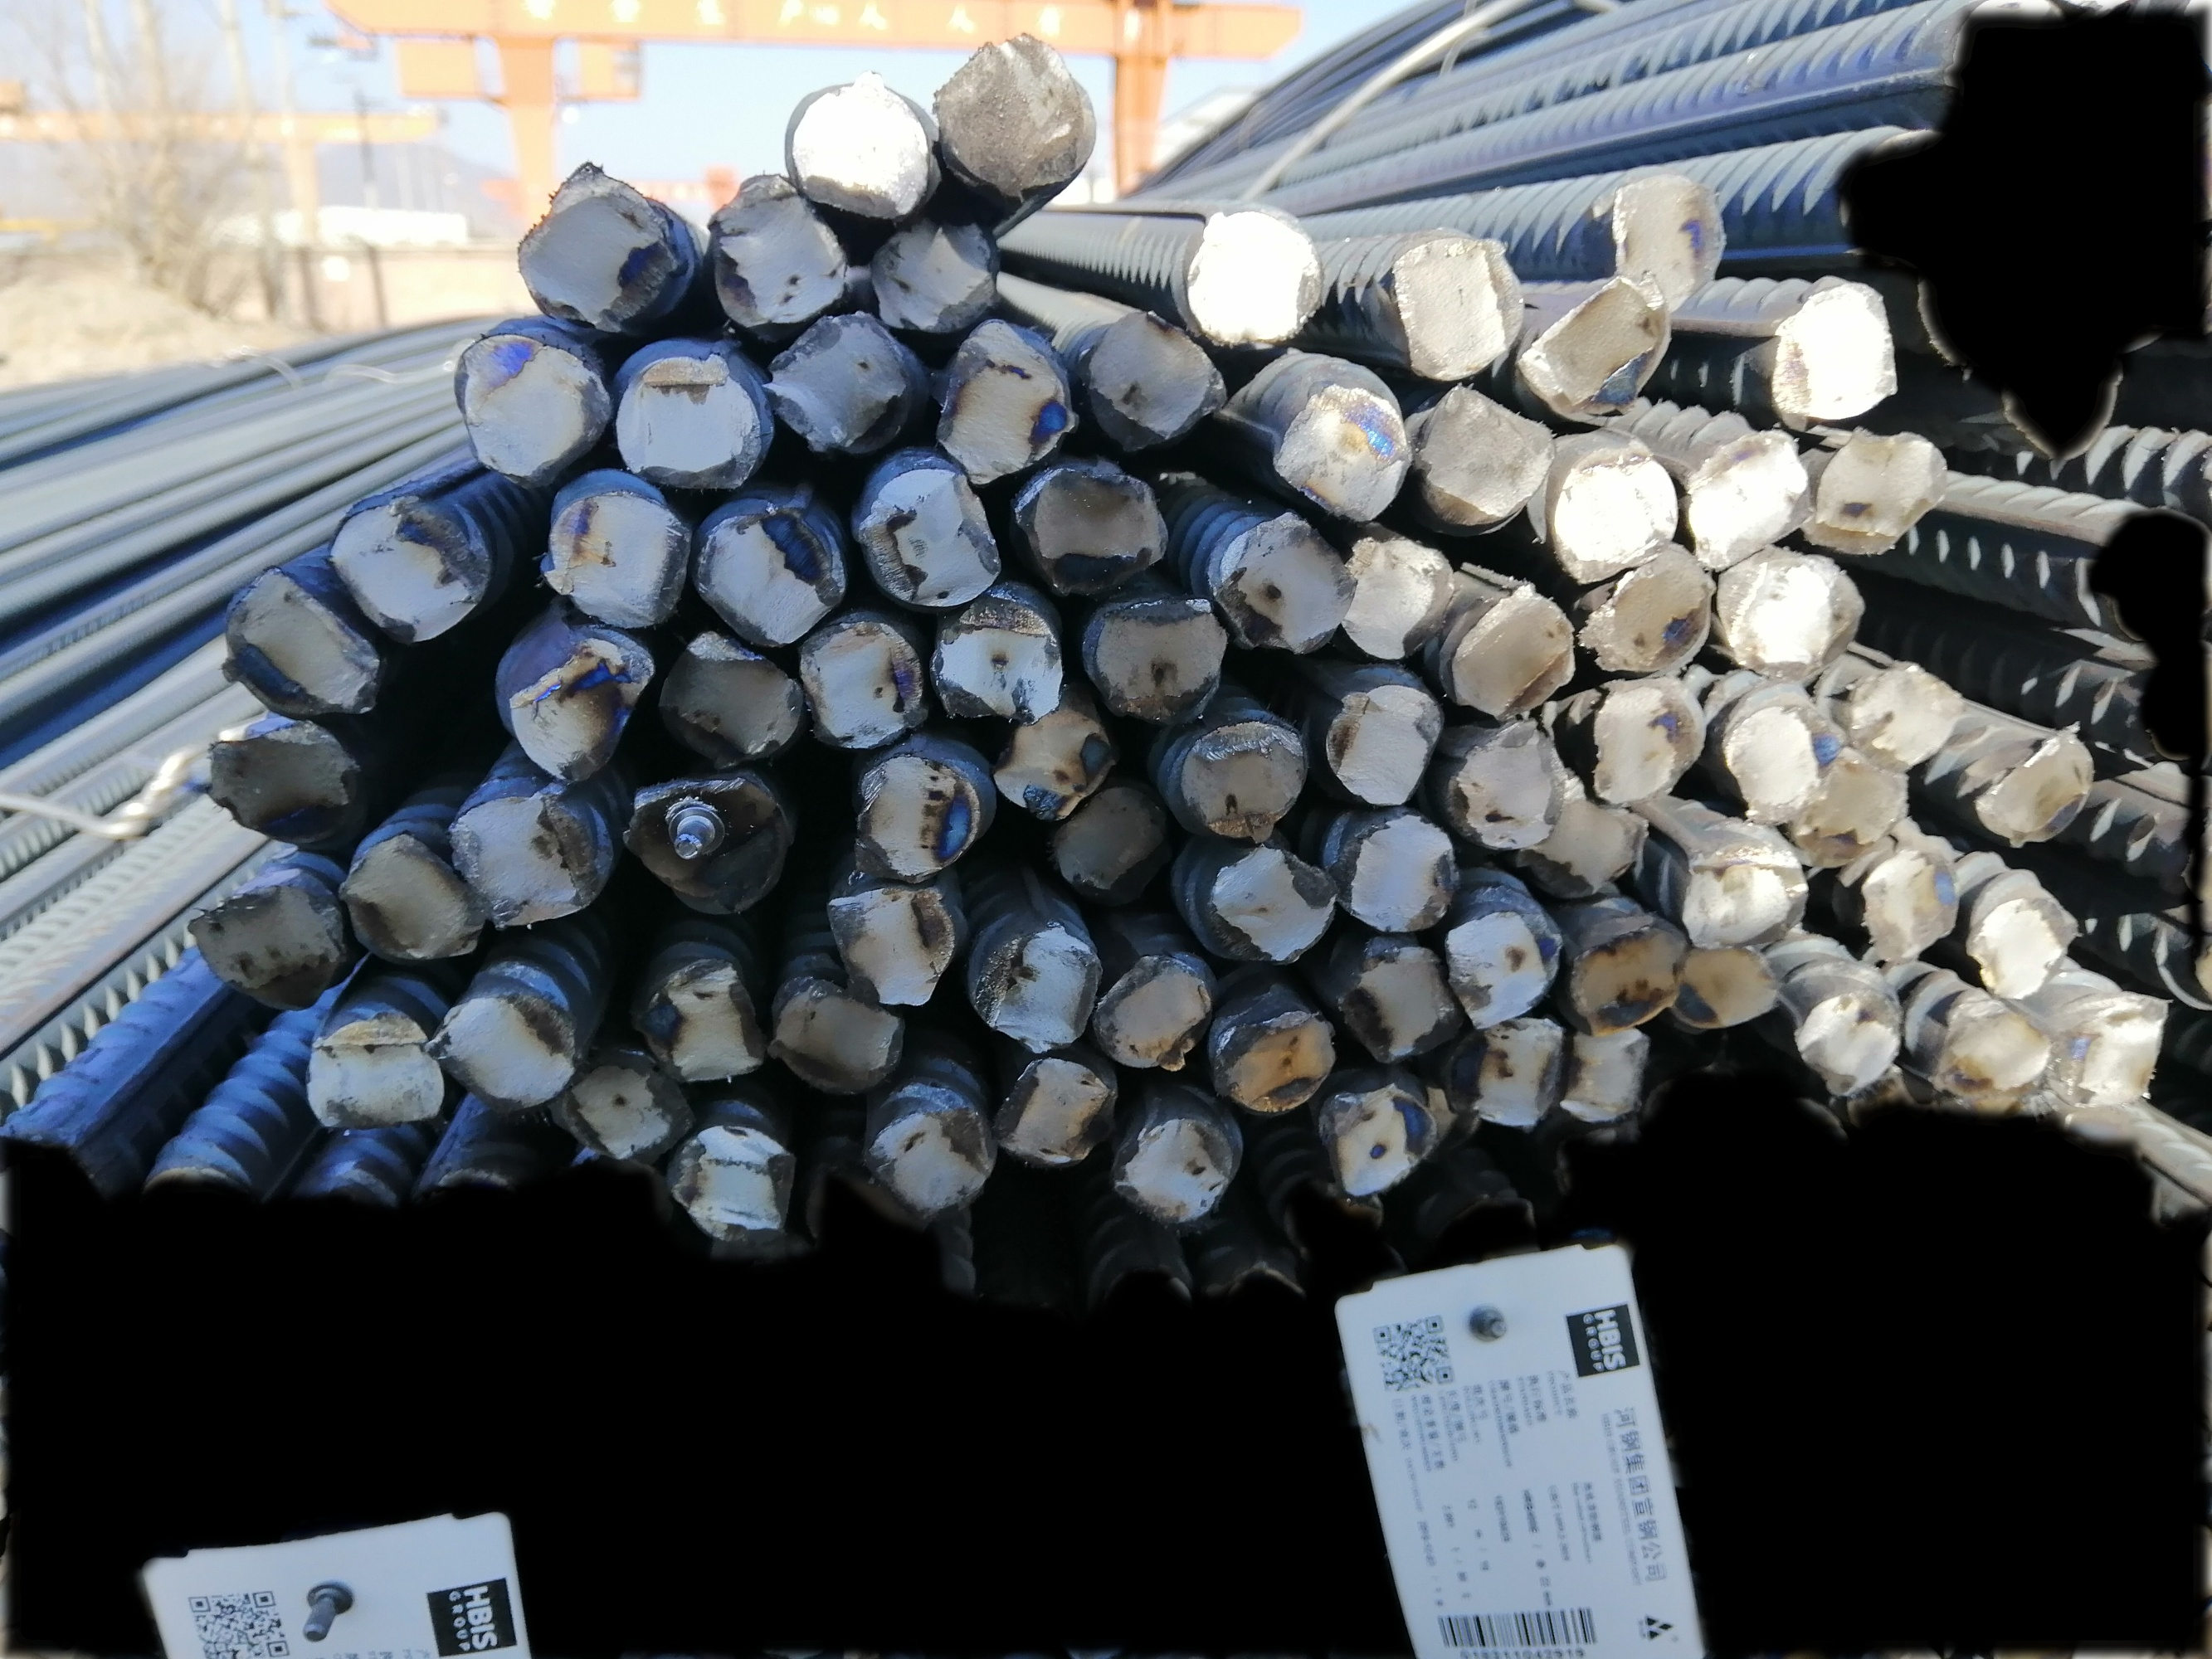rebar: (933, 31, 1105, 204), (207, 561, 383, 727), (450, 324, 621, 493), (929, 315, 1086, 491), (512, 174, 676, 336), (321, 498, 490, 652), (626, 774, 800, 920), (856, 460, 1013, 617), (506, 636, 666, 789), (755, 307, 920, 455), (709, 174, 856, 340), (185, 878, 354, 1019), (1389, 234, 1537, 392), (540, 486, 690, 636), (662, 622, 812, 772), (697, 502, 845, 653), (610, 354, 769, 495), (786, 71, 933, 221), (424, 981, 584, 1117), (1185, 206, 1332, 354), (1211, 507, 1356, 657), (1717, 544, 1862, 694), (1799, 418, 1951, 559), (791, 605, 931, 758), (329, 836, 486, 972), (1523, 270, 1666, 418), (553, 1032, 699, 1175), (926, 587, 1069, 734), (1604, 167, 1738, 322), (1548, 437, 1679, 592), (207, 721, 368, 847), (1417, 392, 1553, 538), (293, 1006, 450, 1129), (443, 795, 582, 932), (1443, 579, 1578, 721), (823, 873, 959, 1012), (1719, 683, 1842, 835), (1283, 382, 1410, 528), (1668, 831, 1816, 957), (1091, 594, 1227, 730), (865, 1098, 1002, 1232), (1028, 472, 1168, 605), (1086, 308, 1218, 448), (865, 211, 1006, 342), (640, 950, 770, 1089), (1771, 284, 1902, 423), (1686, 432, 1815, 573), (856, 748, 985, 885), (772, 965, 903, 1098), (1109, 1101, 1245, 1229), (1213, 838, 1342, 971), (1342, 812, 1469, 945), (662, 1119, 795, 1244), (1579, 687, 1708, 814), (978, 920, 1103, 1051), (1332, 535, 1457, 666), (1192, 706, 1313, 842), (1970, 727, 2100, 850), (1574, 906, 1693, 1040), (1445, 1011, 1569, 1136), (1590, 549, 1713, 674), (1959, 870, 2076, 1002), (1457, 718, 1569, 856), (1340, 941, 1466, 1063), (1004, 1053, 1128, 1175), (1849, 843, 1966, 972), (1095, 943, 1210, 1073), (1658, 929, 1795, 1037), (1213, 1007, 1342, 1122), (992, 709, 1117, 826), (1849, 657, 1970, 775), (1325, 681, 1442, 803), (1443, 906, 1553, 1033), (1062, 781, 1170, 910), (1529, 784, 1647, 901), (1930, 990, 2057, 1098), (1797, 732, 1912, 850), (1325, 1080, 1438, 1197), (2069, 992, 2174, 1112), (1795, 992, 1907, 1100), (1548, 1016, 1651, 1126)
